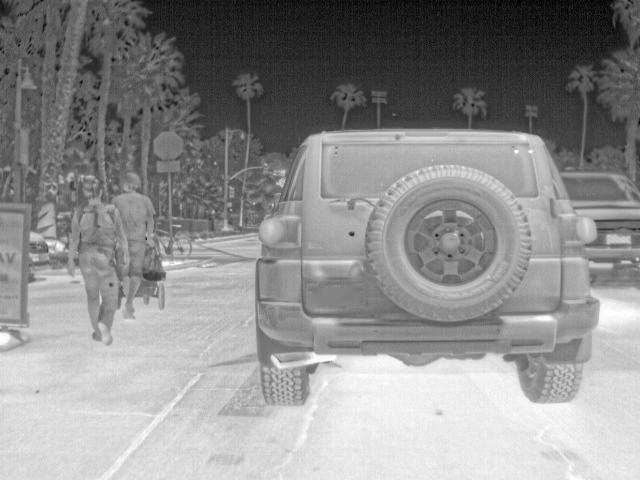car: (254, 126, 594, 403), (558, 168, 638, 262), (29, 233, 52, 266)
person: (65, 177, 132, 347), (113, 172, 161, 318)
